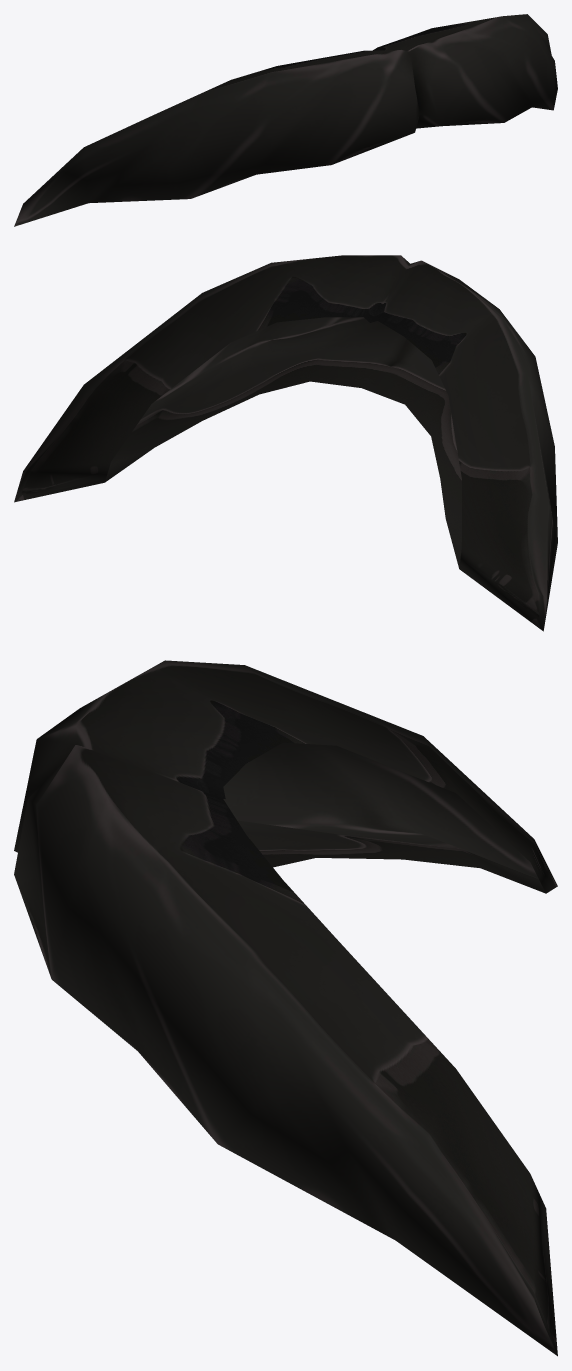
Rendered from beard6.fbx.
3 views of the same model, one above another, from view 1: azimuth 30°, elevation 25°; view 2: azimuth 150°, elevation 25°; view 3: azimuth 270°, elevation 25° (orthographic). The views are drawn at different scales.
Parts seen in each view (by area): view 1: beard6; view 2: beard6; view 3: beard6.
Part boxes in pixels (x1=…): beard6: x1=14, y1=14, x2=557, y2=226; beard6: x1=14, y1=255, x2=557, y2=631; beard6: x1=14, y1=660, x2=557, y2=1356.
Size of the model in its own units: 6.64 by 2.54 by 3.24.
